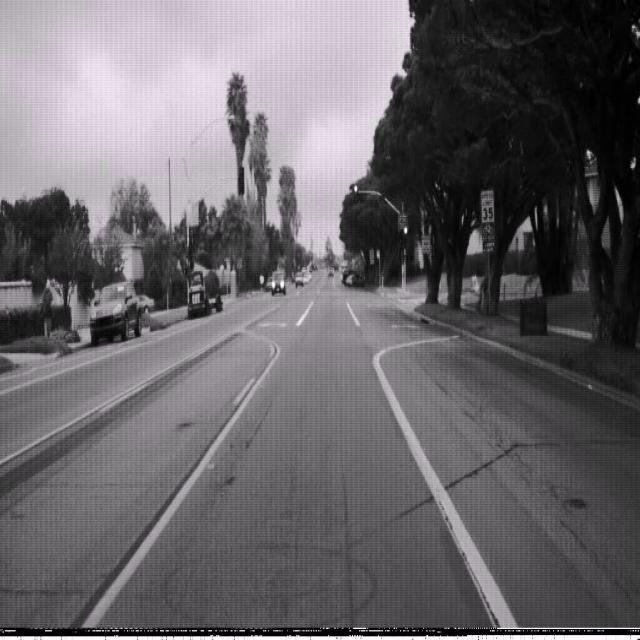speedLimit35: (480, 188, 495, 225)
